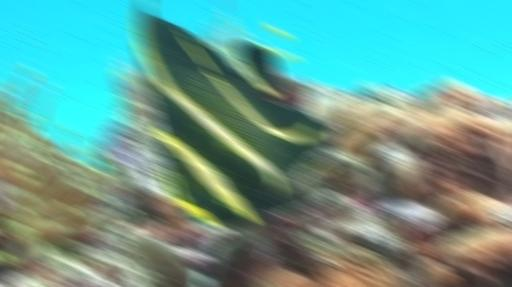Fish: (136, 0, 339, 224)
